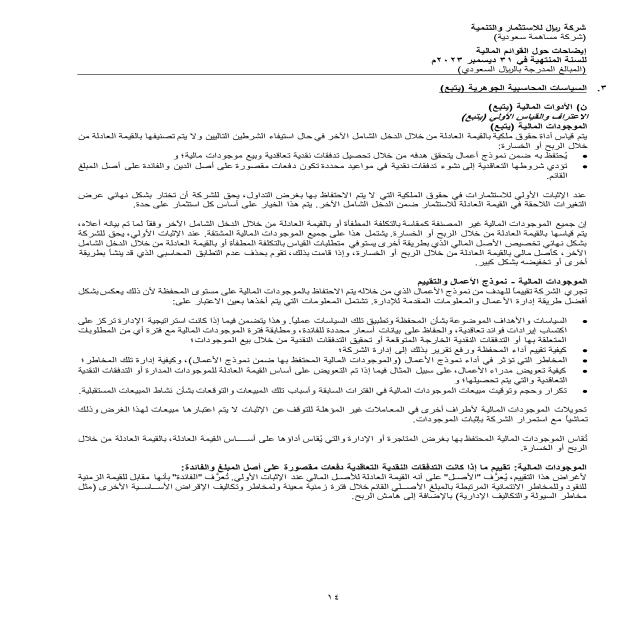notes: (469, 44, 589, 55)
text: (34, 81, 624, 518)
